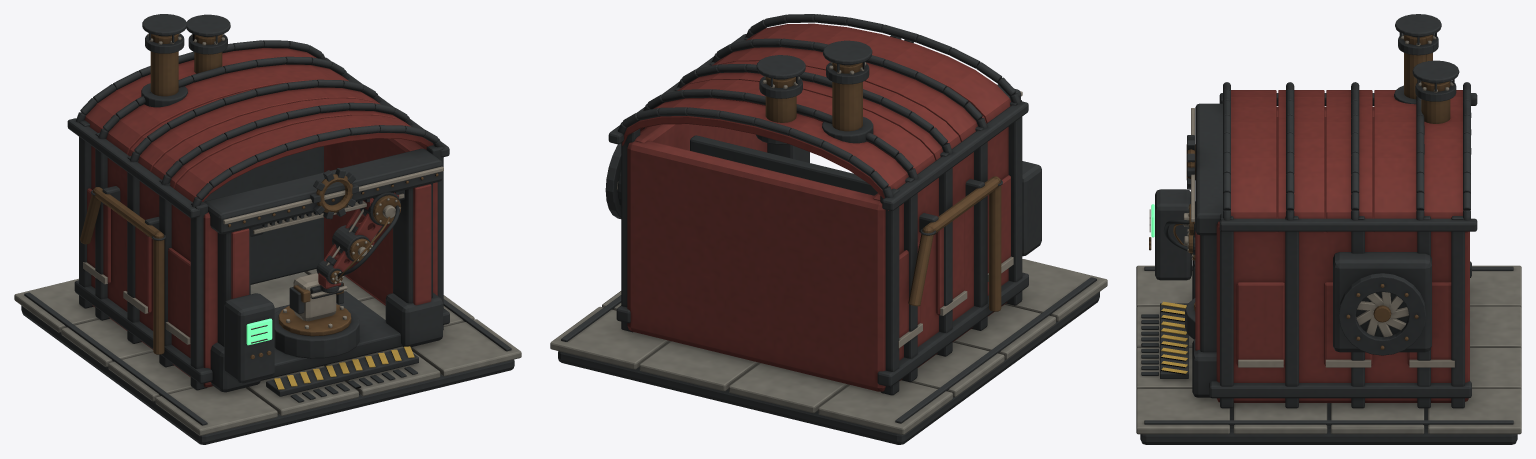
The picture shows the model from 3 angles, left to right: view 1: azimuth 30°, elevation 25°; view 2: azimuth 150°, elevation 25°; view 3: azimuth 270°, elevation 25°; orthographic projection. The views are drawn at different scales.
Parts seen in each view (by area): view 1: Martian Manufactorum | complete authored assembly; view 2: Martian Manufactorum | complete authored assembly; view 3: Martian Manufactorum | complete authored assembly.
Boxes of the visible parts, x1,y1,x2,y2 form: Martian Manufactorum | complete authored assembly: (14, 14, 521, 444); Martian Manufactorum | complete authored assembly: (550, 14, 1107, 444); Martian Manufactorum | complete authored assembly: (1136, 14, 1521, 444).
Bounding box in the file's own units: 3.96 × 3.56 × 3.96.
1 material, 1 textured.
